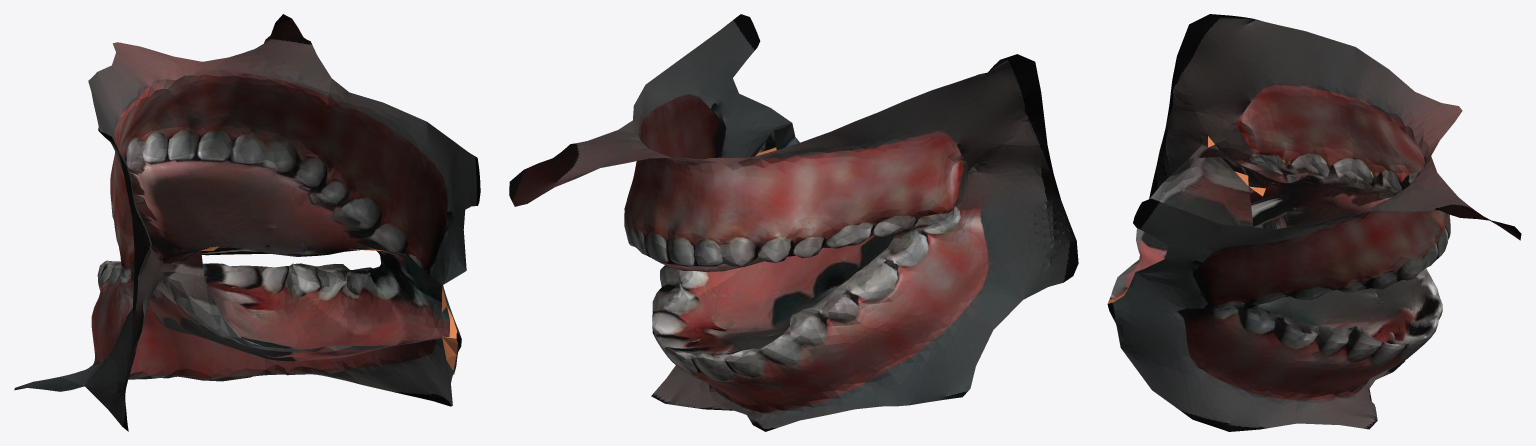
File: teeth.obj
3 views of the same model, side by side, from view 1: azimuth 30°, elevation 25°; view 2: azimuth 150°, elevation 25°; view 3: azimuth 270°, elevation 25° (orthographic). The views are drawn at different scales.
Bounding box in the file's own units: 1.95 × 1.78 × 2.23.
